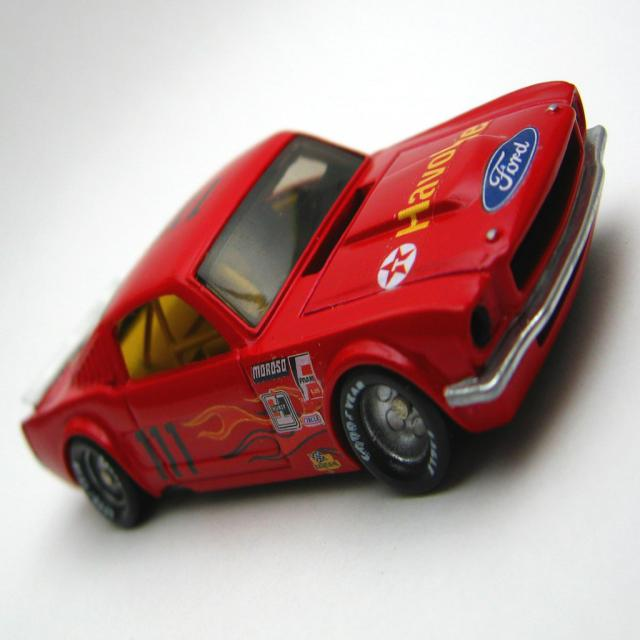other: (16, 89, 602, 494)
